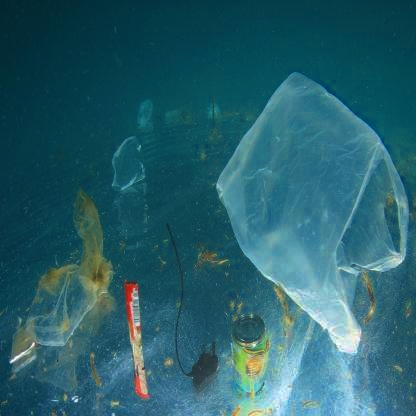can: (232, 313, 268, 398)
electronics: (165, 220, 221, 392)
pbag: (216, 72, 410, 356), (25, 189, 113, 346), (110, 134, 146, 192), (136, 98, 154, 132)
plastic: (121, 278, 152, 401)
